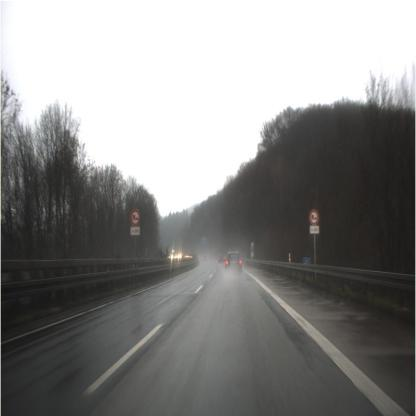prohibitory: (129, 209, 142, 230), (309, 208, 321, 229)
